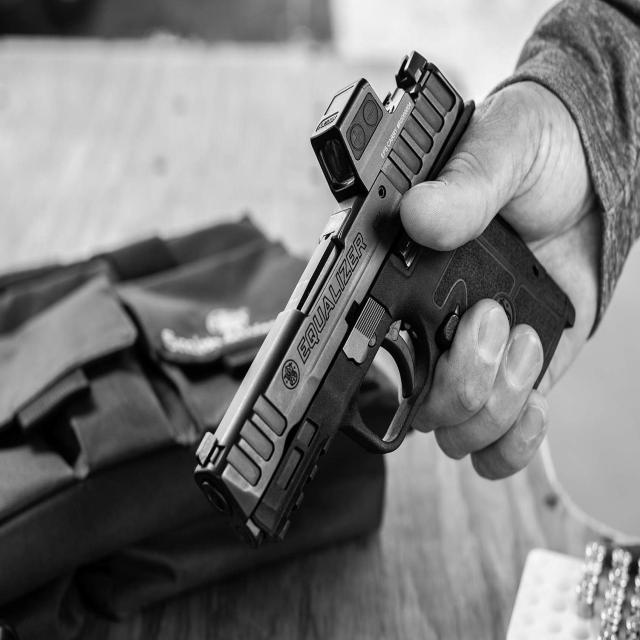Weapon: (194, 52, 574, 548)
